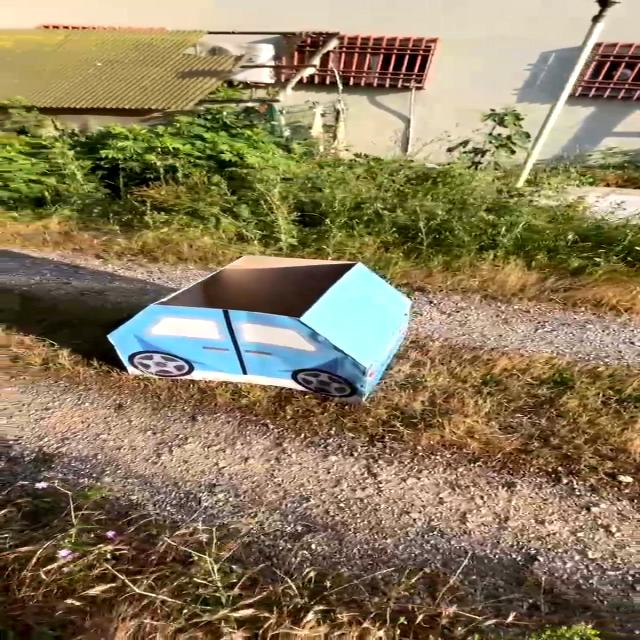blue_car: (44, 244, 455, 427)
